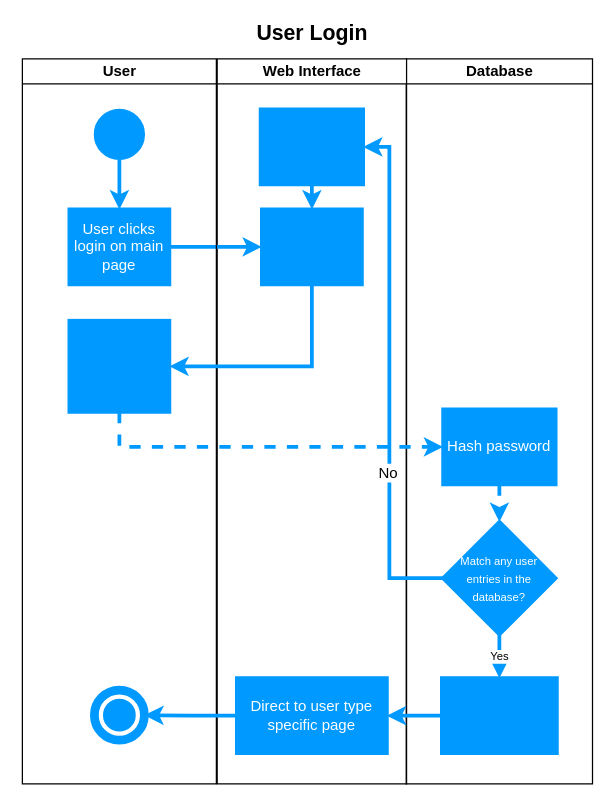
Image size: 615x806. Some labels were removed from this diagram. Each missing label, with the box of its shape:
Check user type: (439, 676, 558, 754)
Directs user to log in page: (259, 207, 363, 286)
Notify user of incorrect username or password: (258, 107, 364, 186)
User enters username and password and clicks/touches log in: (67, 318, 171, 413)
